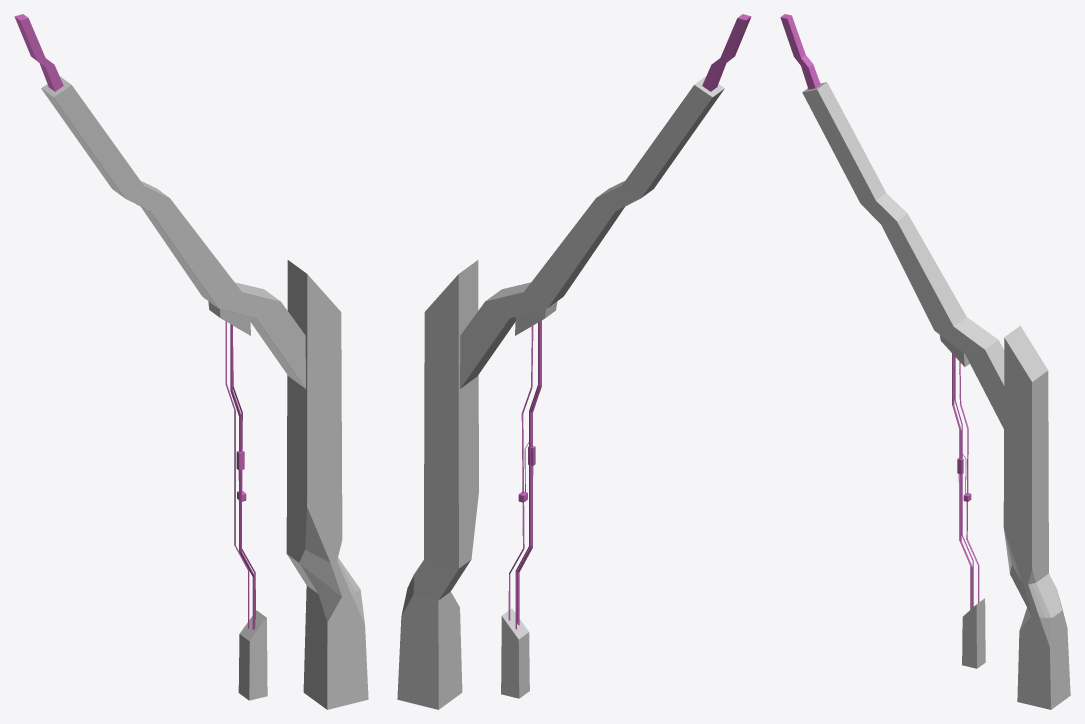
The model's file is pillar3_low.fbx.
3 renders of one model, left to right at view 1: azimuth 30°, elevation 25°; view 2: azimuth 150°, elevation 25°; view 3: azimuth 330°, elevation 25°, orthographic. The views are drawn at different scales.
Parts seen in each view (by area): view 1: pillar3_low; view 2: pillar3_low; view 3: pillar3_low.
Boxes of the visible parts, x1,y1,x2,y2 form: pillar3_low: (14, 14, 368, 709); pillar3_low: (397, 14, 751, 709); pillar3_low: (780, 14, 1070, 709).
Size of the model in its own units: 4863 by 10347 by 592.
